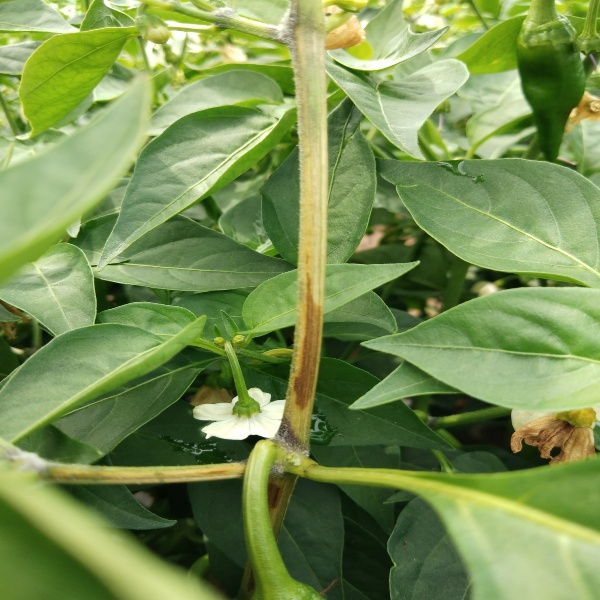blight: (214, 1, 331, 68), (506, 409, 600, 476), (289, 249, 326, 408), (54, 460, 243, 484), (269, 416, 312, 475)
